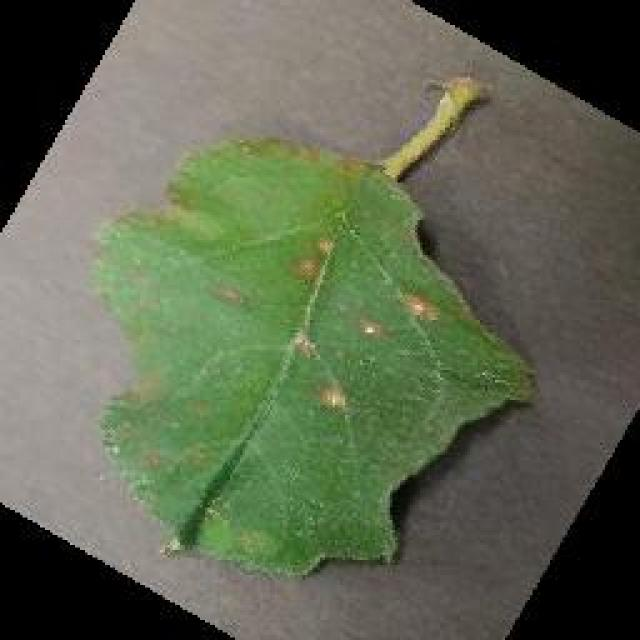apple cedar apple rust: (88, 72, 540, 580)
